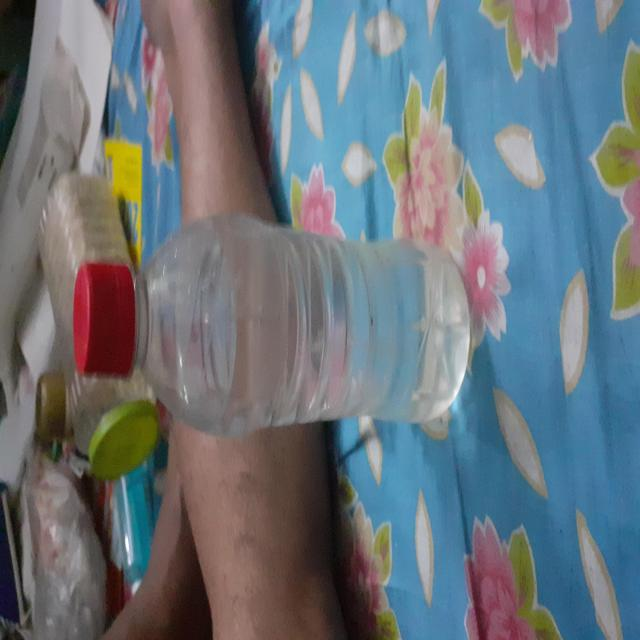bottle: (70, 208, 476, 444)
